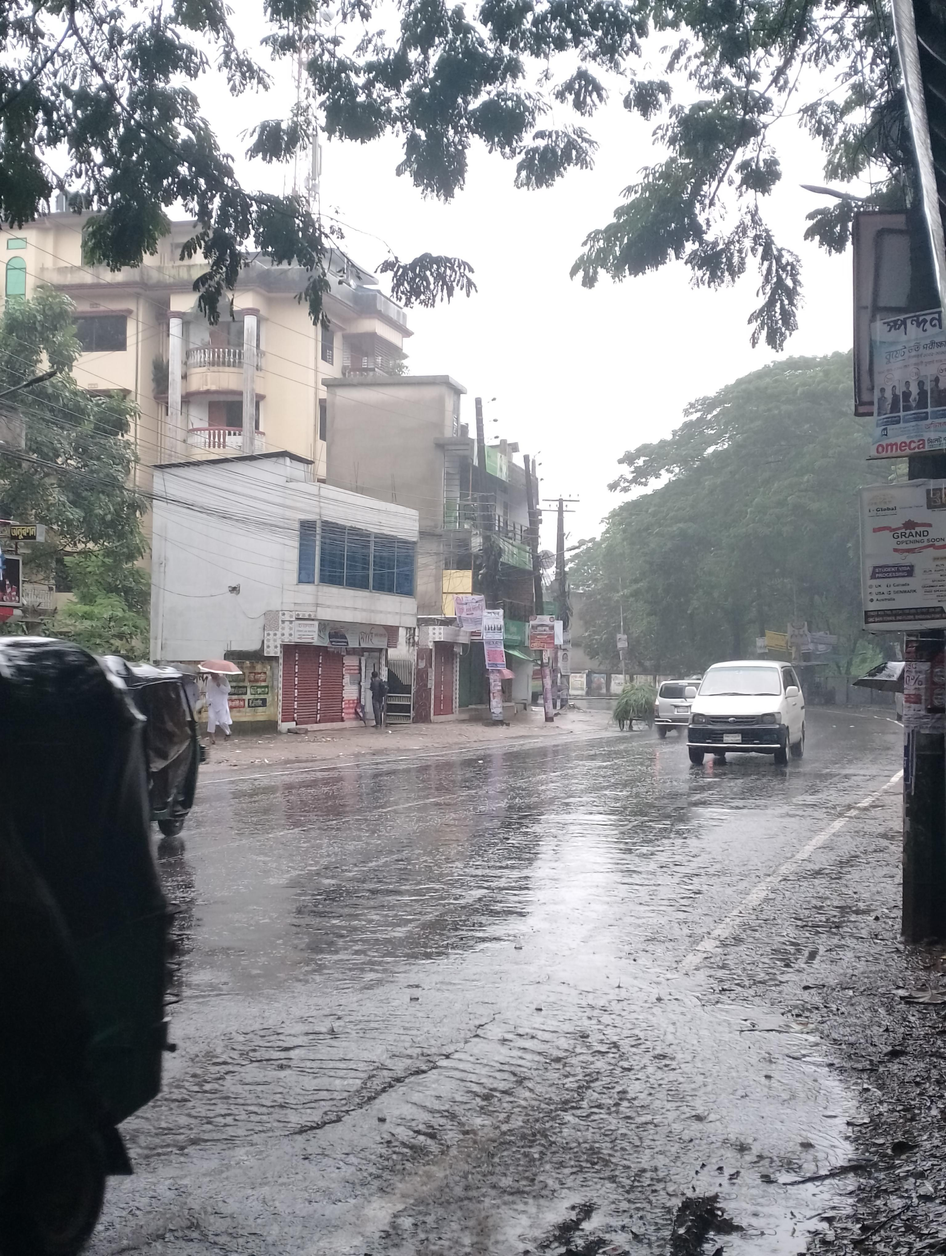Car: (673, 653, 818, 778)
